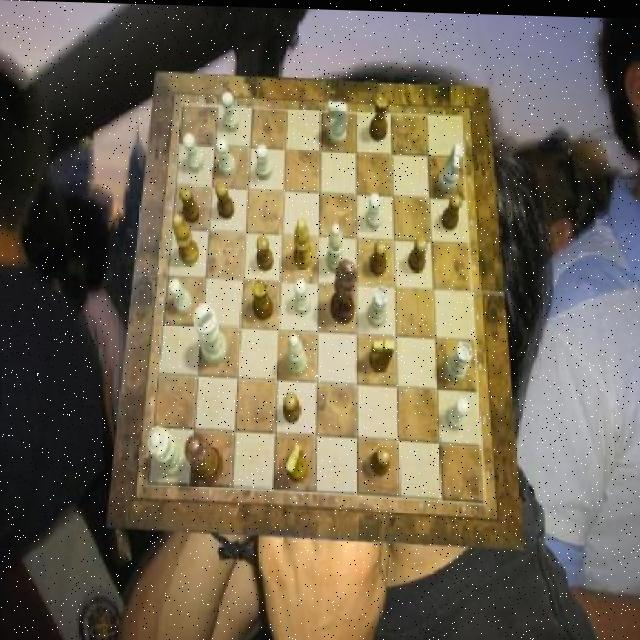bishop: (173, 213, 200, 265), (292, 216, 312, 267)
black-bishop: (329, 257, 357, 323)
black-king: (285, 441, 308, 481), (370, 336, 396, 371)
black-knight: (441, 191, 462, 228), (180, 186, 200, 224), (408, 234, 428, 270), (214, 180, 233, 217), (370, 444, 391, 474), (369, 238, 386, 274), (255, 234, 272, 269), (284, 391, 301, 423)
black-pawn: (183, 432, 223, 484)
black-queen: (369, 90, 389, 140), (251, 277, 274, 319)
black-rook: (326, 221, 344, 273), (286, 331, 306, 373)
white-bishop: (191, 301, 226, 364)
white-king: (438, 141, 462, 191), (328, 98, 348, 143)
white-knight: (446, 393, 470, 428), (183, 132, 204, 172), (170, 276, 192, 313), (216, 136, 236, 175), (221, 91, 238, 132), (294, 276, 311, 313), (255, 143, 272, 179), (366, 190, 382, 228)
white-pawn: (146, 425, 186, 477)
white-queen: (445, 338, 472, 378), (365, 282, 388, 325)
